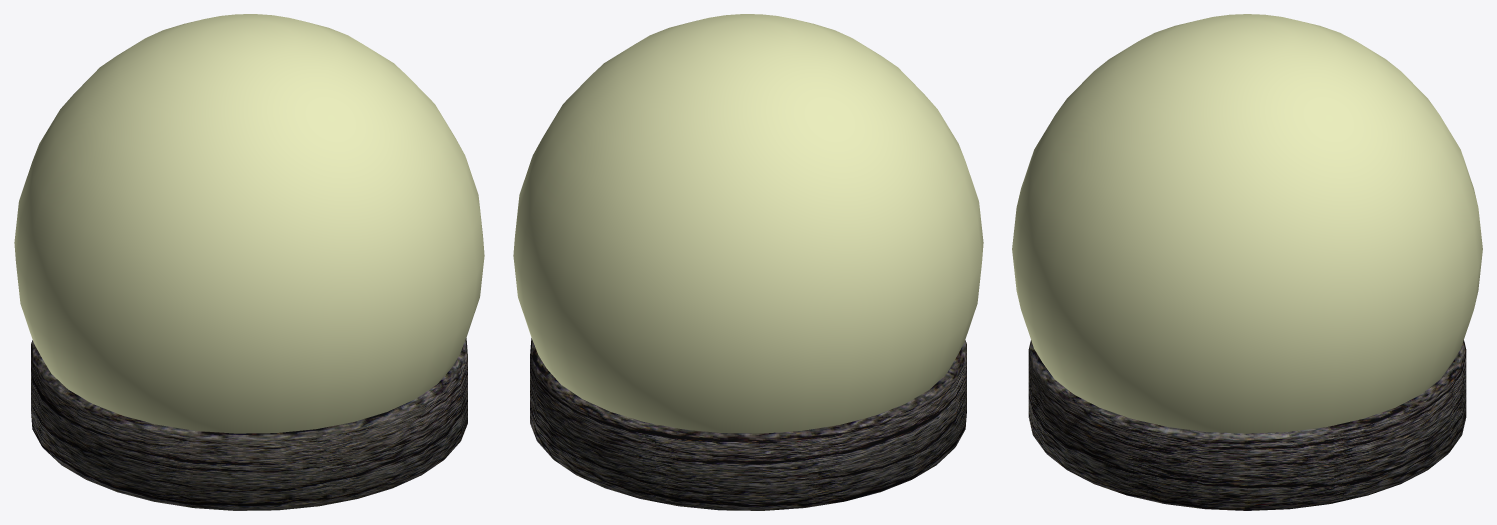
Rendered from modelo.glb.
The picture shows the model from 3 angles, left to right: view 1: azimuth 30°, elevation 25°; view 2: azimuth 150°, elevation 25°; view 3: azimuth 270°, elevation 25°; orthographic projection.
Visible parts, largest first — view 1: Esfera, Cilindro; view 2: Esfera, Cilindro; view 3: Esfera, Cilindro.
Part boxes in pixels (<box>): Esfera: <box>14,14,484,433</box>; Cilindro: <box>31,338,467,510</box>; Esfera: <box>513,14,983,433</box>; Cilindro: <box>530,338,966,510</box>; Esfera: <box>1012,14,1482,433</box>; Cilindro: <box>1028,340,1466,510</box>.
Size of the model in its own units: 24.99 by 24.99 by 24.99.
Materials: 10 (5 with a texture image).
